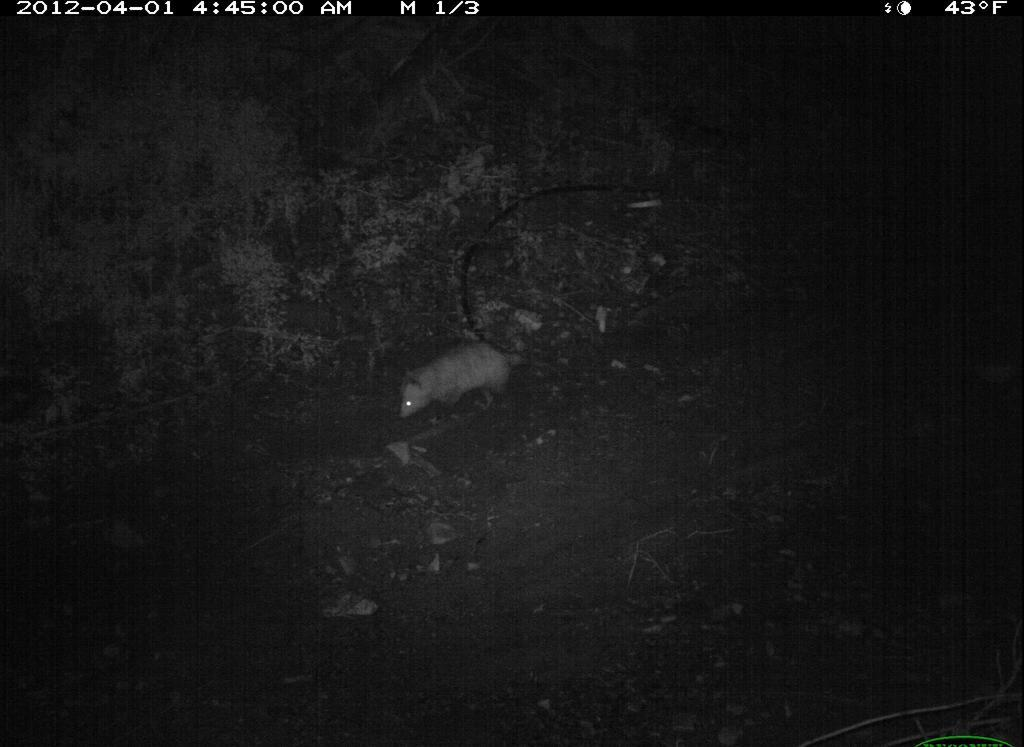opossum: (378, 313, 555, 449)
